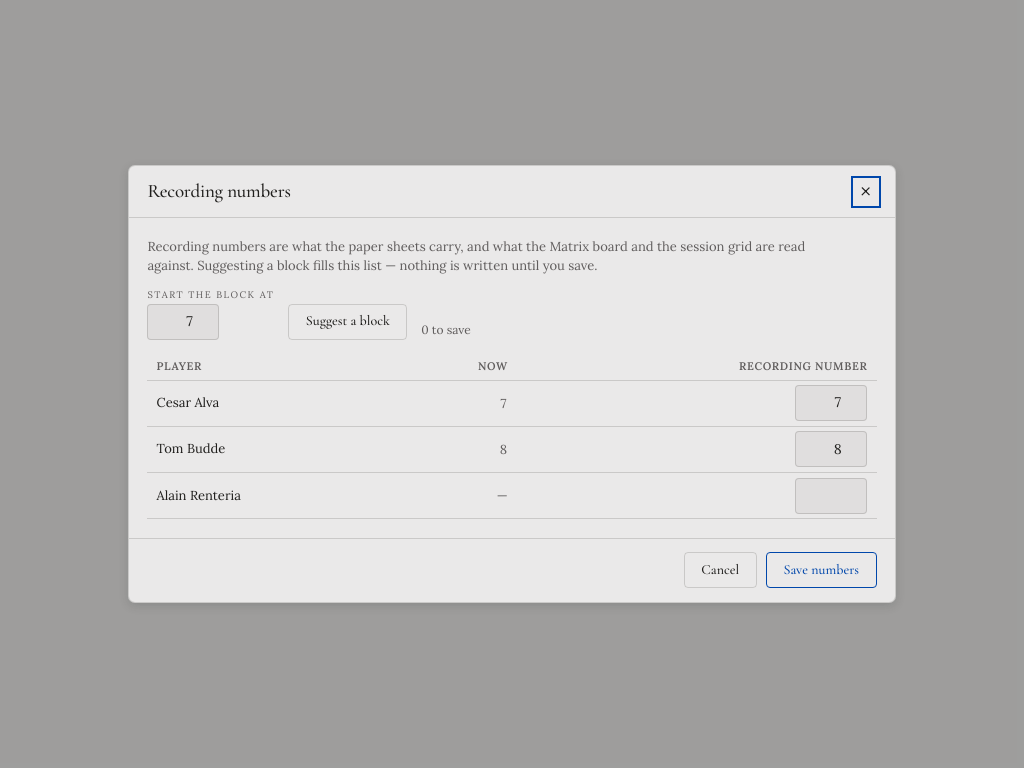
Test: PROPOSING WRITES NOTHING › says so on screen, so nobody assumes it saved
Click the button "Suggest a block" at point(348, 322), box [288,304,407,340]
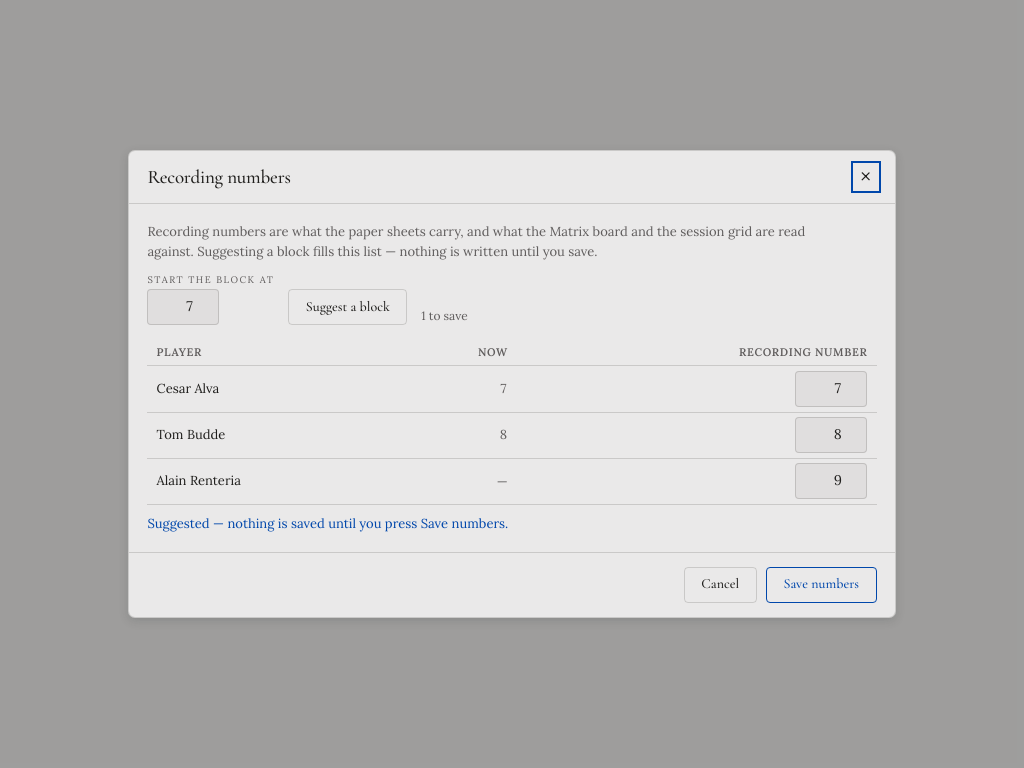
Expected: the message "Suggested — nothing is saved until you press Save numbers." is shown, [147,515,508,532]
